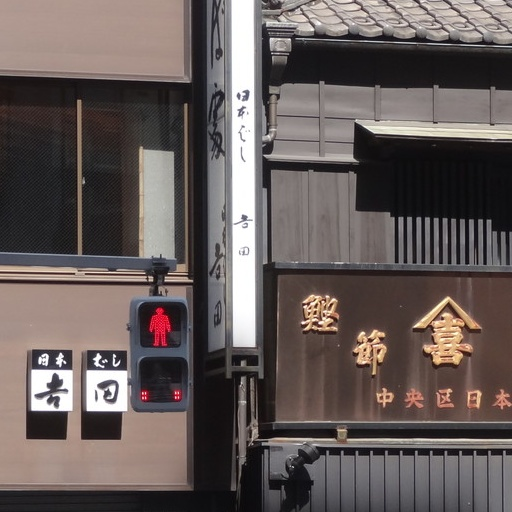Pedestrian_Signal_Red: (125, 287, 198, 413)
